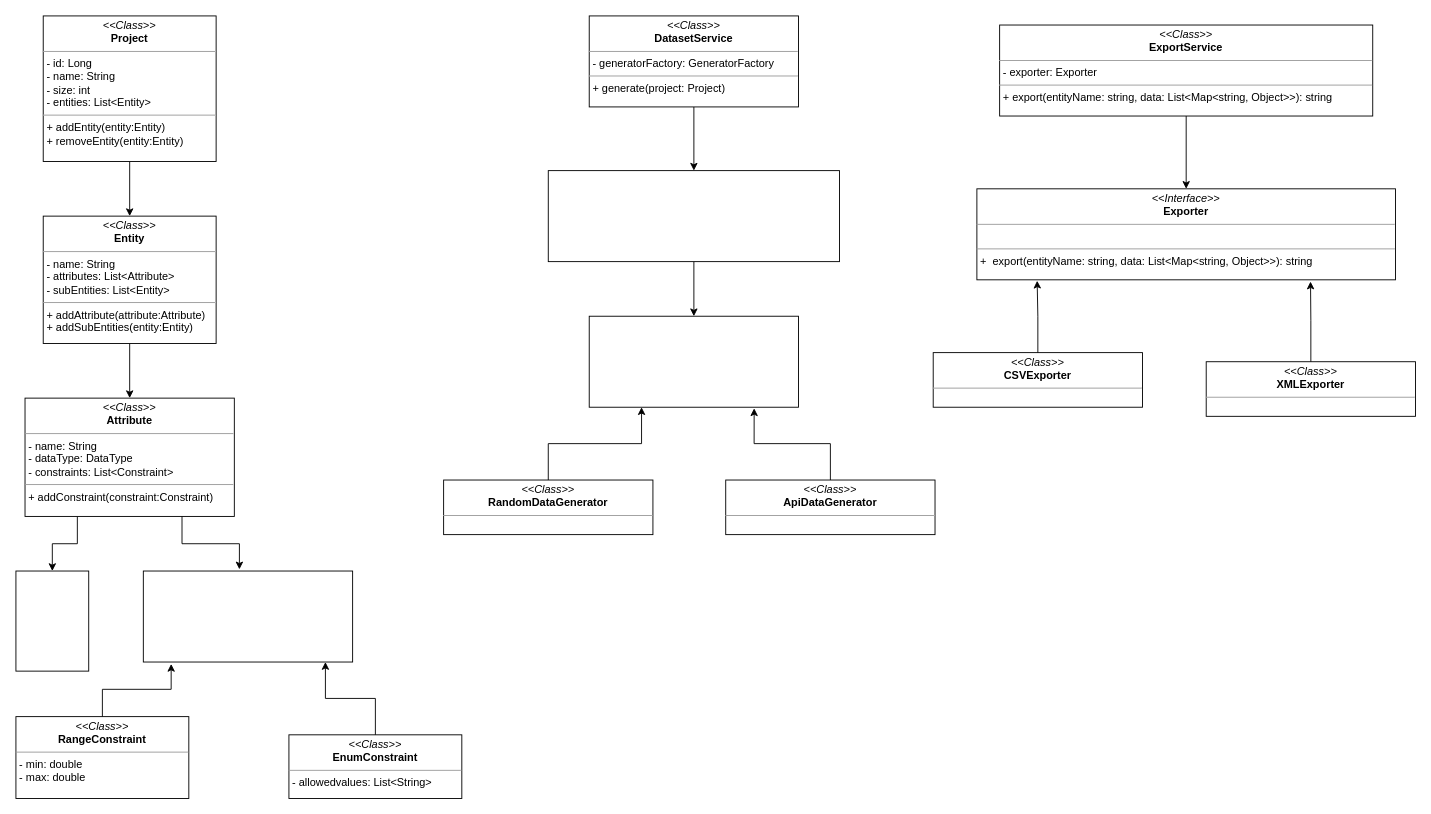
Some shapes in this 1431 by 814 pixel diagram are drawn without their labels. The centre of each missing label's shape, as x and y in pixels:
"<<Class>> GeneratorFactory + getGenerator(attribute: Attribute): DataGenerator" belongs at (693,216).
"<<Enum>> DataType STRING INTEGER FLOAT ....." belongs at (52,620).
"<<Interface>> Constraint + isValid(value: Object) : boolean" belongs at (247,616).
"<<Interface>> DataGenerator + generate(attribute: Attribute): Object" belongs at (693,361).
